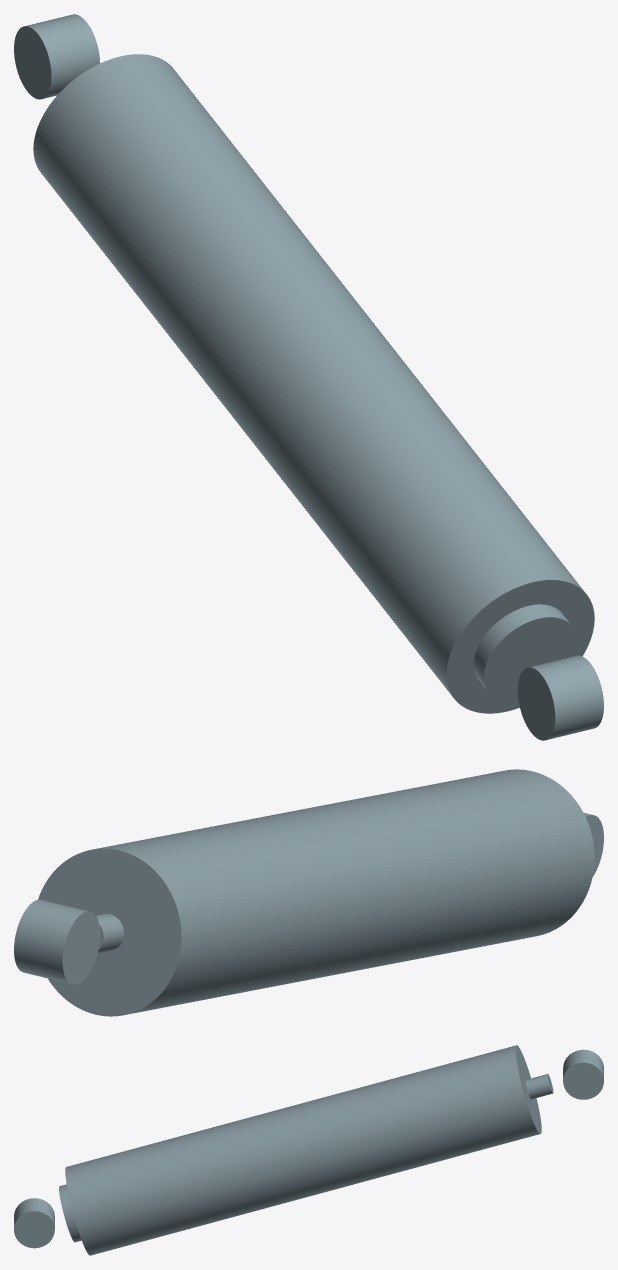
The model's file is coilover_C02.glb.
3 renders of one model, top to bottom at view 1: azimuth 30°, elevation 25°; view 2: azimuth 150°, elevation 25°; view 3: azimuth 270°, elevation 25°, orthographic. The views are drawn at different scales.
Visible parts, largest first — view 1: coilover_envelope; view 2: coilover_envelope; view 3: coilover_envelope.
Boxes of the visible parts, x1,y1,x2,y2 form: coilover_envelope: [14, 14, 603, 740]; coilover_envelope: [14, 769, 603, 1016]; coilover_envelope: [14, 1045, 603, 1255].
Bounding box in the file's own units: 0.09 × 0.2177 × 0.5775.
